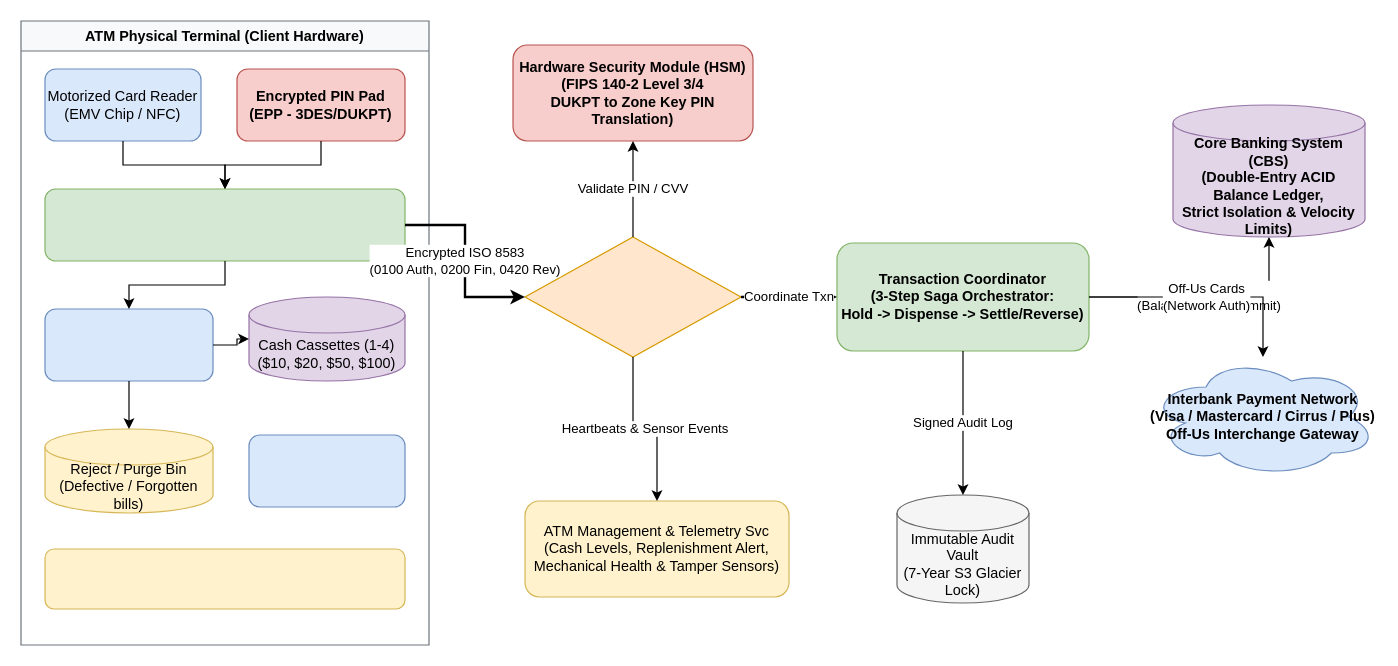
Image size: 1398x666. Some labels were removed from this diagram. The centre of each missing label's shape, as x and y in pixels:
"ATM Gateway / Switch (ISO 8583 / AS 2805 Parser, TLS)" goes at [632,296].
"Cash Dispenser System (Optical double-detect sensor)" goes at [128,344].
"CEN / XFS Device Drivers & Local State Machine (Hardware Abstraction Layer)" goes at [224,224].
"Local Encrypted NVRAM Journal (Write-Ahead Log for Power Cuts)" goes at [224,578].
"Thermal Receipt Printer & Camera Sensor" goes at [326,470].
